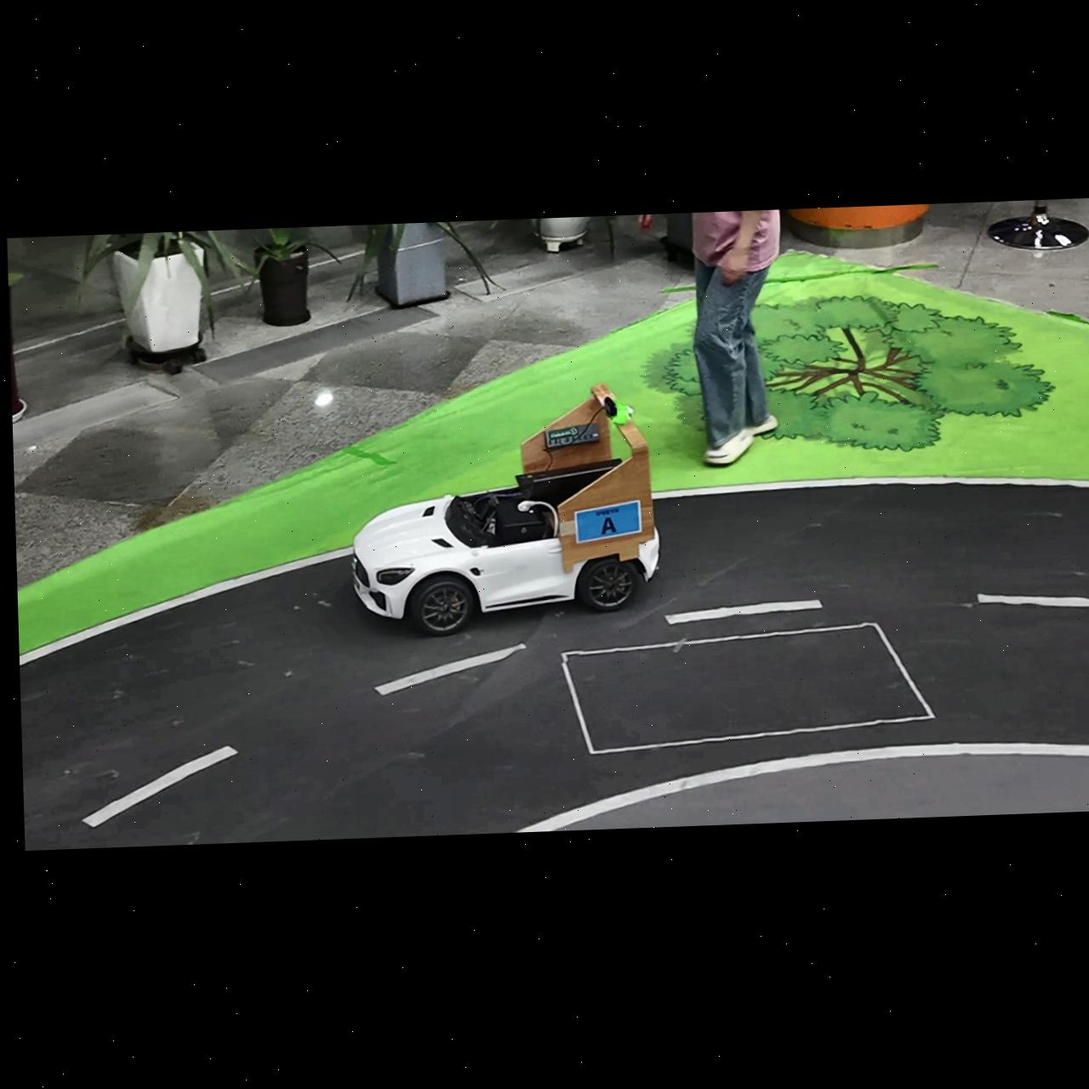broken_line: (82, 746, 237, 827), (375, 642, 527, 695), (666, 600, 823, 624), (978, 594, 1089, 607)
